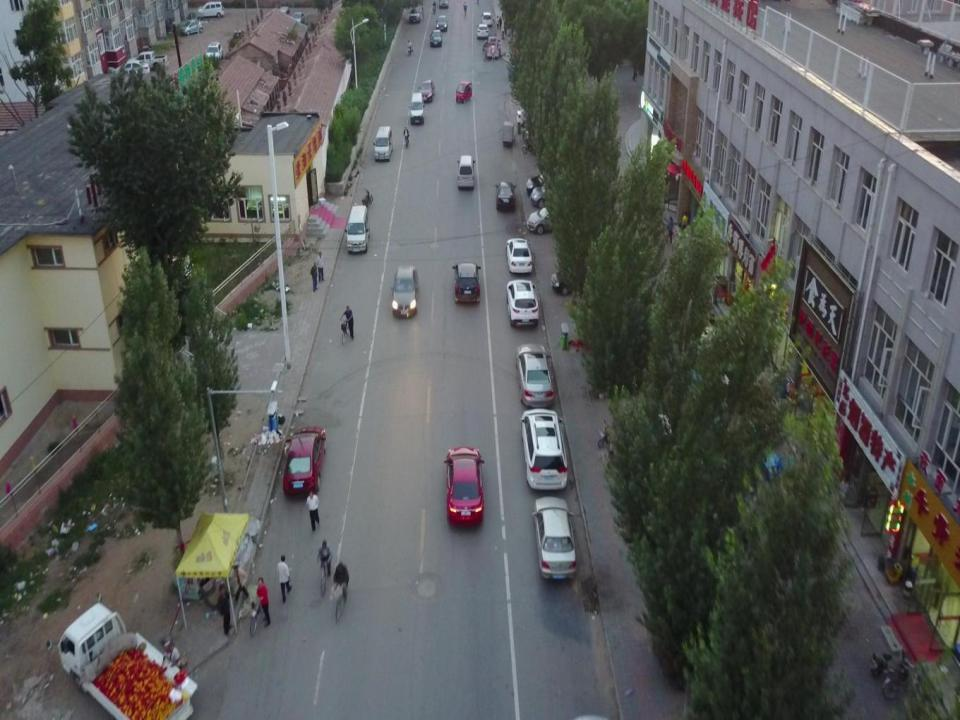car: (522, 406, 567, 490), (535, 494, 575, 576), (444, 447, 484, 523), (285, 425, 326, 495), (515, 344, 554, 406), (550, 264, 608, 296), (505, 278, 536, 324), (392, 264, 418, 316), (453, 259, 479, 302), (526, 205, 568, 231), (526, 170, 570, 194), (504, 236, 534, 271), (528, 185, 573, 207), (115, 57, 150, 74), (196, 1, 224, 20), (205, 40, 224, 67), (496, 182, 514, 207), (181, 20, 203, 35), (419, 78, 432, 102), (430, 29, 442, 47), (408, 4, 420, 22), (292, 11, 304, 29), (436, 14, 448, 31), (477, 24, 489, 38), (481, 10, 492, 25), (438, 0, 448, 8)
truck: (61, 603, 193, 720), (126, 50, 168, 67)
van: (346, 204, 369, 250), (375, 125, 393, 158), (458, 155, 474, 189), (410, 92, 425, 124), (279, 4, 289, 22)
